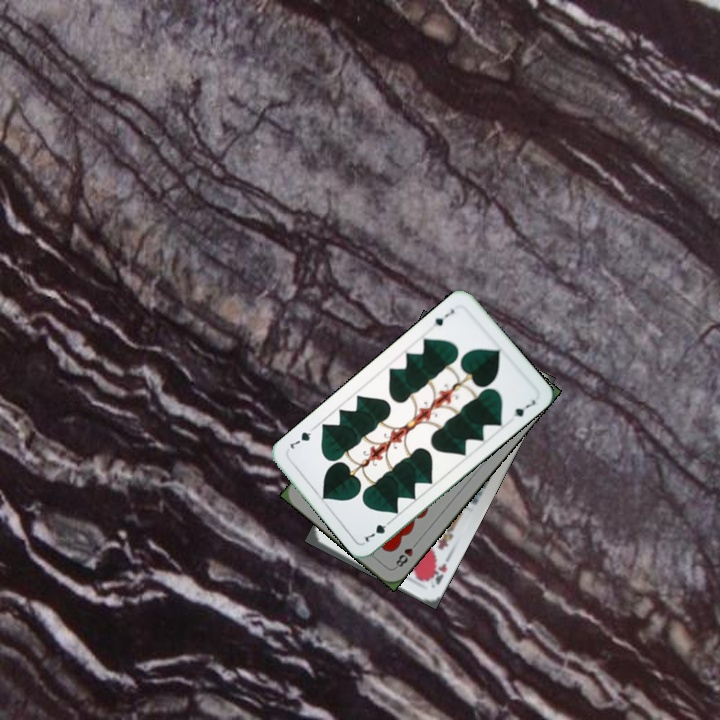G7: (358, 515, 395, 545), (430, 305, 457, 329)
H8: (391, 537, 421, 571)
HK: (423, 552, 451, 587)
